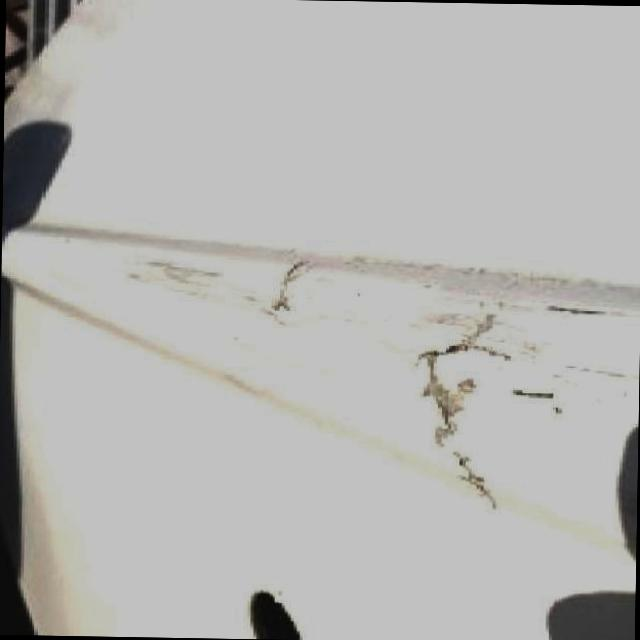crack: (418, 314, 489, 503), (271, 256, 301, 310)
